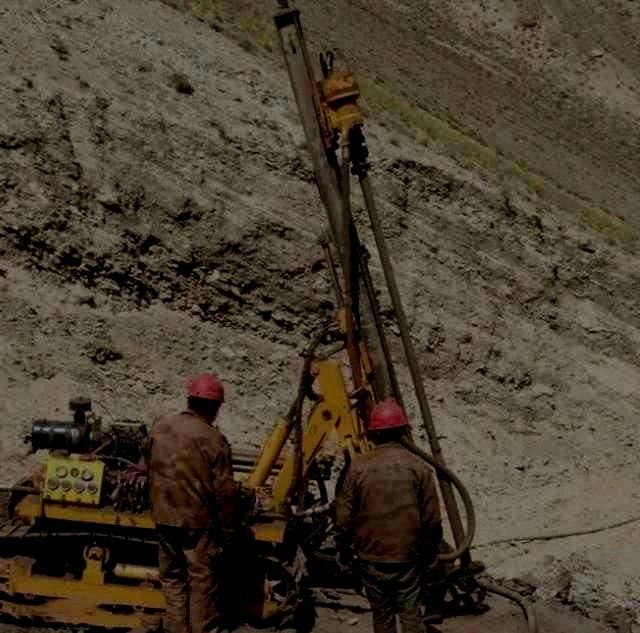helmet: (184, 372, 227, 425), (367, 397, 409, 446)
